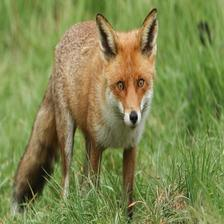fox: (4, 5, 165, 224)
